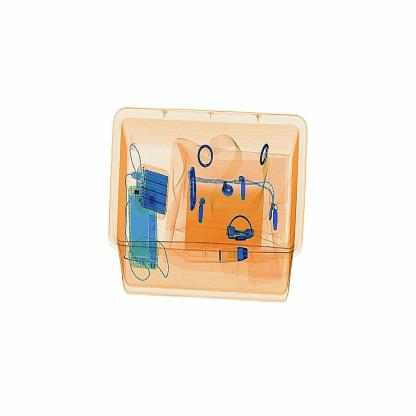knife: (182, 153, 210, 224)
